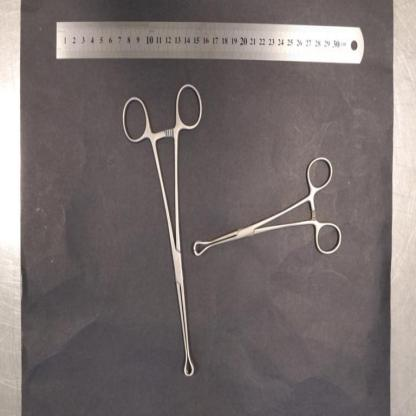8 Babcock Tissue Forceps: (121, 83, 202, 376)
Babcock Tissue Forceps: (193, 158, 341, 256)
